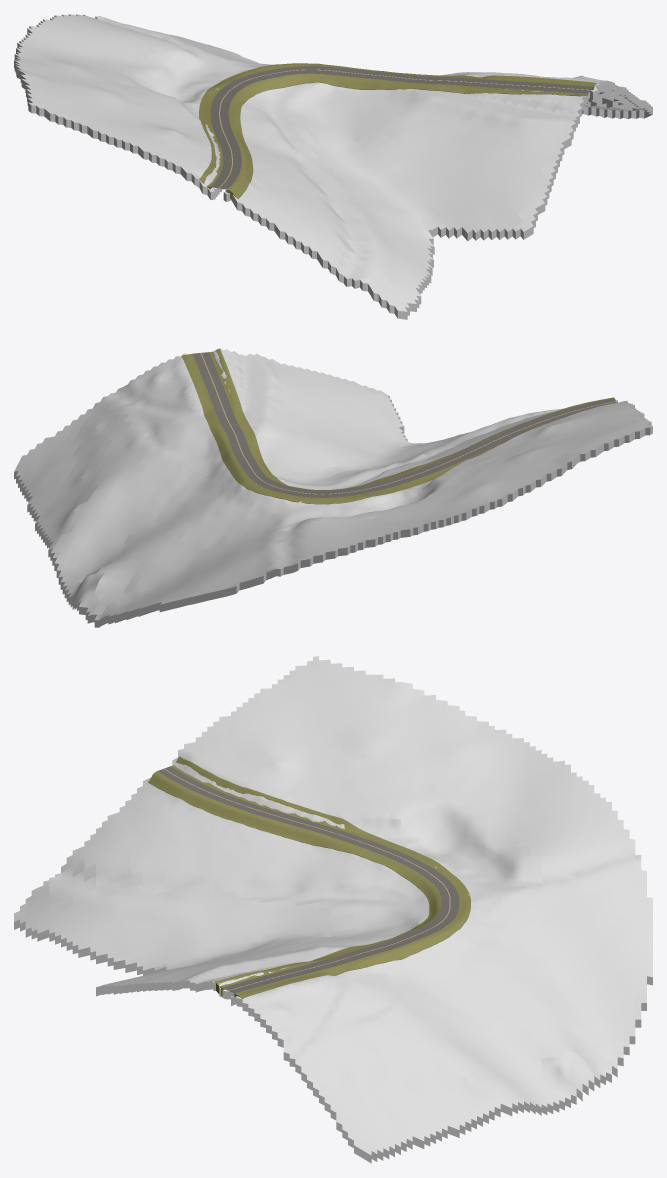
The model's file is conz_209.glb.
3 renders of one model, top to bottom at view 1: azimuth 30°, elevation 25°; view 2: azimuth 150°, elevation 25°; view 3: azimuth 270°, elevation 25°, orthographic. The views are drawn at different scales.
Visible parts, largest first — view 1: terrain209, road209, verge209R, verge209L; view 2: terrain209, road209, verge209L, verge209R, paint_yellow209; view 3: terrain209, road209, verge209R, verge209L.
Boxes of the visible parts, x1,y1,x2,y2 form: terrain209: [14, 14, 652, 319]; road209: [210, 66, 592, 189]; verge209R: [227, 73, 587, 200]; verge209L: [199, 63, 596, 189]; terrain209: [14, 348, 652, 627]; road209: [192, 352, 616, 497]; verge209L: [181, 353, 604, 504]; verge209R: [209, 348, 613, 490]; paint_yellow209: [200, 353, 615, 494]; terrain209: [14, 656, 652, 1163]; road209: [157, 766, 459, 993]; verge209R: [148, 771, 441, 995]; verge209L: [171, 756, 470, 998].
Bounding box in the file's own units: 254 × 80.58 × 218.
